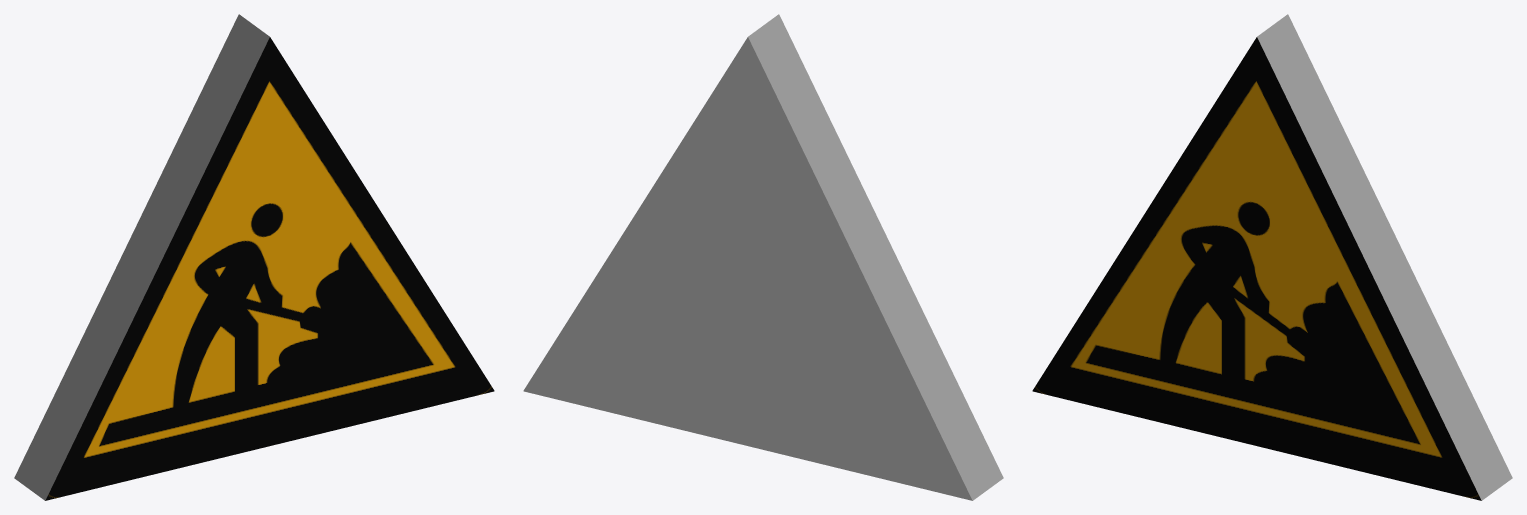
File: Triangle.gltf
The picture shows the model from 3 angles, left to right: view 1: azimuth 30°, elevation 25°; view 2: azimuth 150°, elevation 25°; view 3: azimuth 330°, elevation 25°; orthographic projection.
Visible parts, largest first — view 1: SignNode; view 2: SignNode; view 3: SignNode.
Part boxes in pixels (x1,y1,x2,y2): SignNode: (14,14,494,500); SignNode: (523,14,1003,500); SignNode: (1032,14,1512,500).
Bounding box in the file's own units: 1 × 0.87 × 0.12.
Materials: 2 (1 with a texture image).
